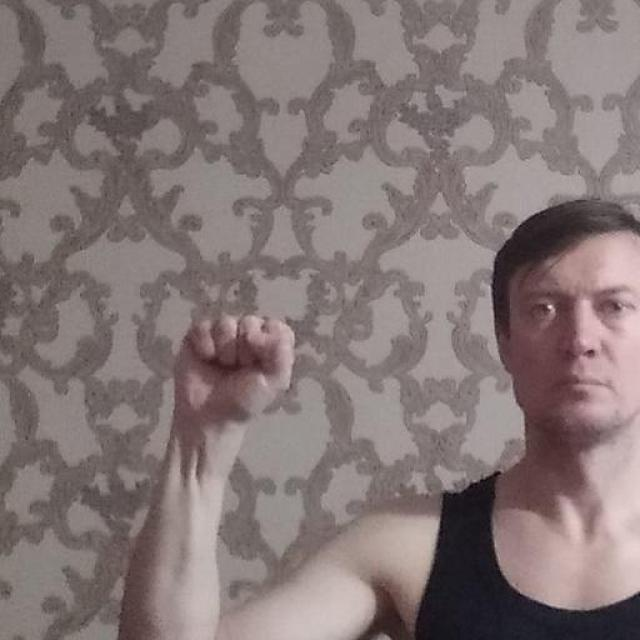hand: (172, 309, 298, 445)
